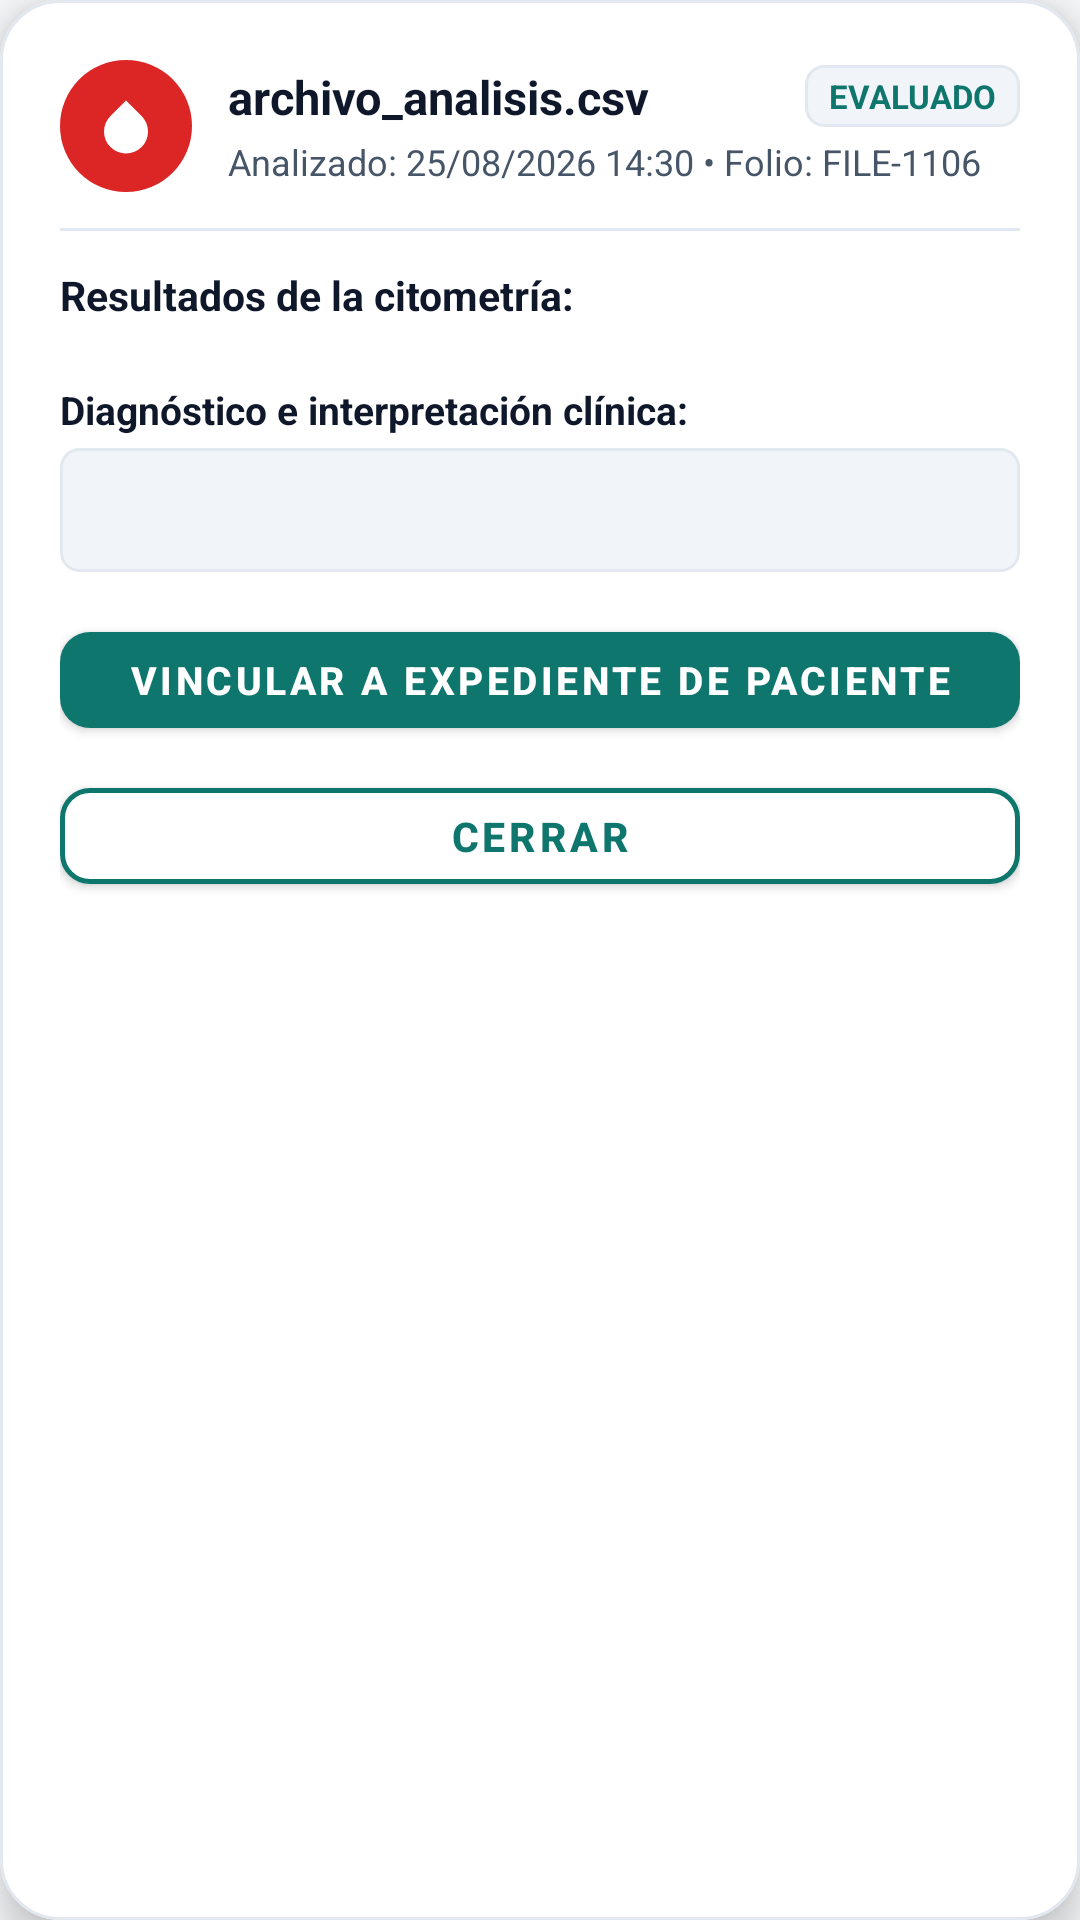

Named icons in this screenshot (1080px x 1920px) and their bounding boxes, (x1, y1, x2, y2):
blood drop: (104, 100, 148, 154)
